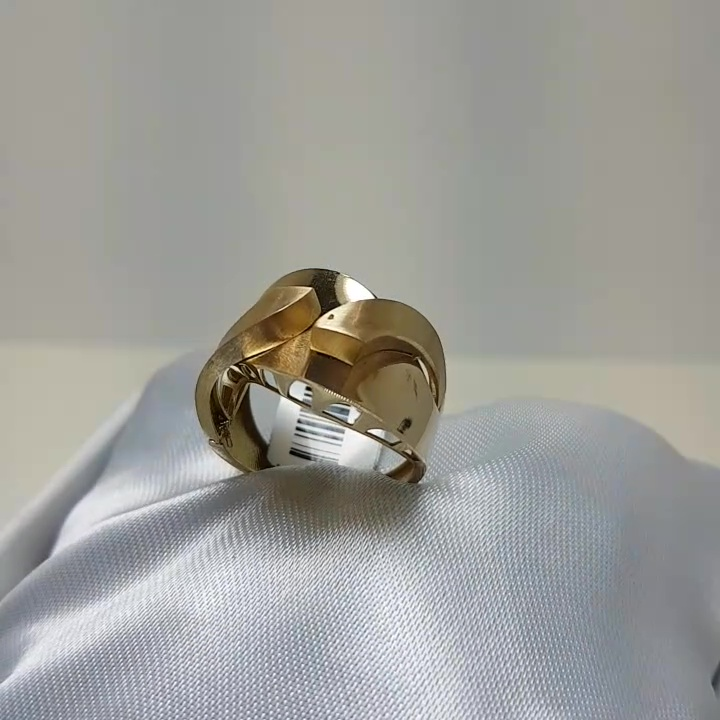Ring 4: (183, 258, 460, 501)
